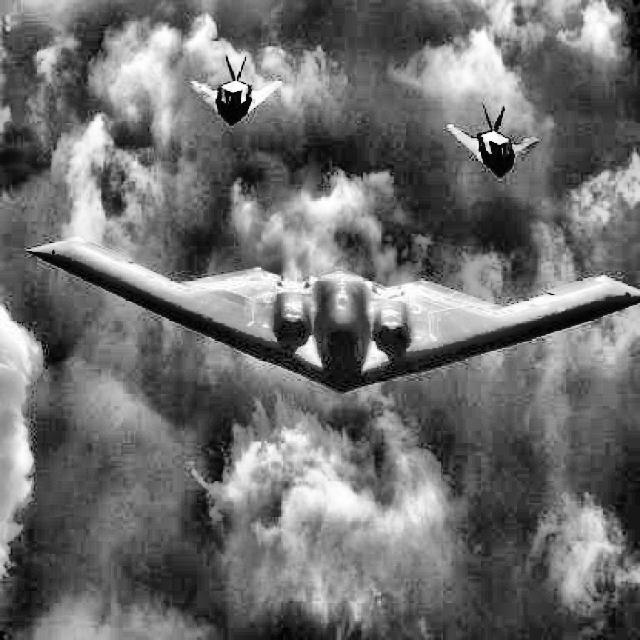B2: (24, 235, 639, 396)
F117: (445, 103, 541, 180), (189, 51, 283, 127)
